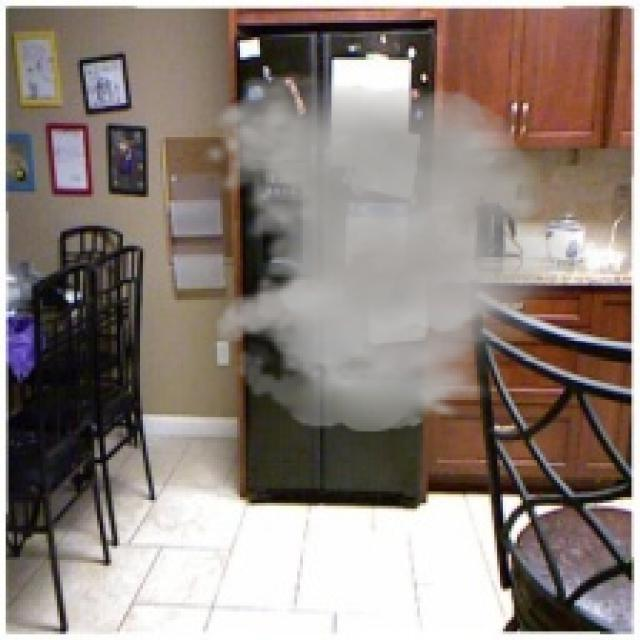Smoke: (202, 71, 598, 432)
